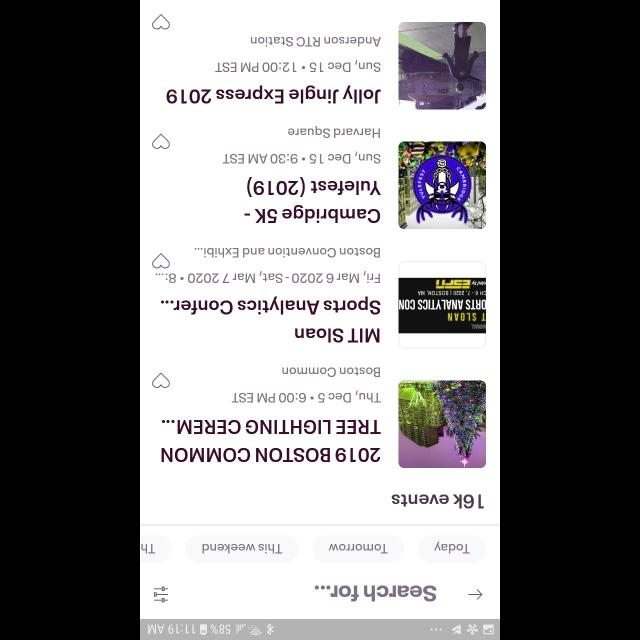icon: (152, 133, 170, 149), (152, 14, 170, 30), (152, 372, 170, 388), (152, 253, 170, 269), (154, 586, 168, 602), (468, 588, 482, 600)
image: (398, 380, 486, 468), (398, 260, 486, 348), (398, 141, 486, 229), (398, 22, 486, 110)
text: (160, 296, 380, 344), (161, 418, 381, 462), (156, 248, 380, 284), (244, 176, 380, 224), (222, 126, 380, 164), (215, 36, 381, 72), (231, 367, 381, 403), (166, 85, 382, 104), (314, 584, 436, 602), (392, 494, 484, 508)
textbutton: (185, 534, 298, 562), (312, 535, 403, 563), (418, 534, 486, 562), (140, 535, 172, 563)
uppertaskbar: (140, 618, 500, 640)
